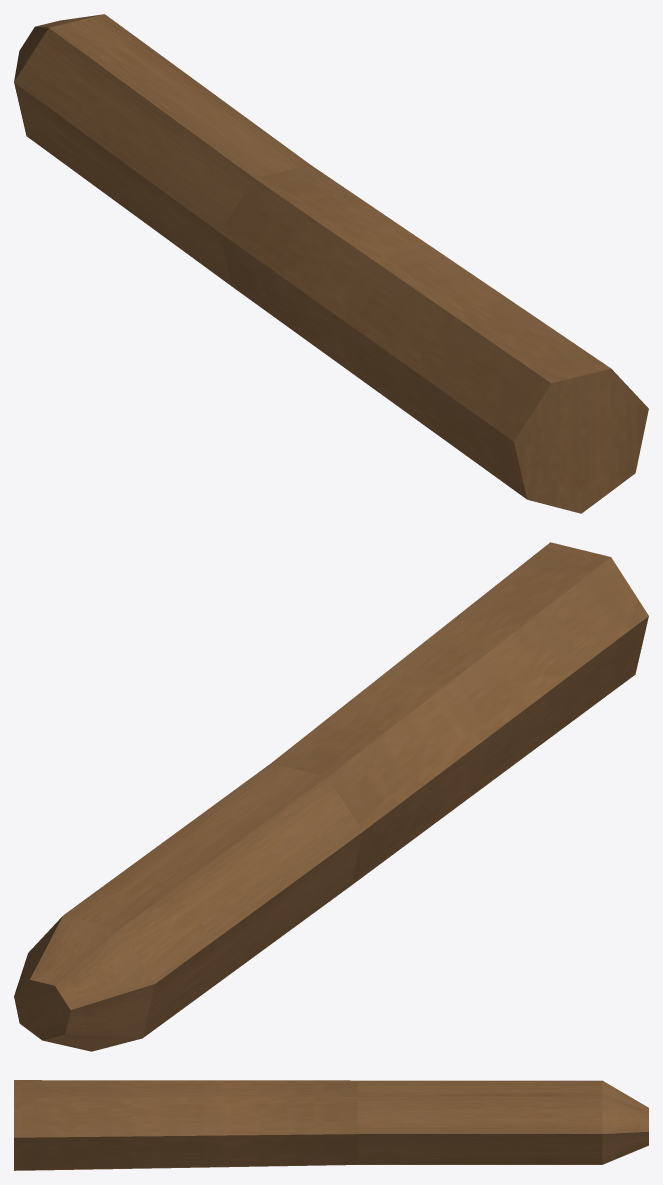
File: venice_tree_0.fbx
3 views of the same model, one above another, from view 1: azimuth 30°, elevation 25°; view 2: azimuth 150°, elevation 25°; view 3: azimuth 270°, elevation 25° (orthographic). The views are drawn at different scales.
Parts seen in each view (by area): view 1: Cylinder.039; view 2: Cylinder.039; view 3: Cylinder.039.
Boxes of the visible parts, x1,y1,x2,y2 form: Cylinder.039: (14, 14, 648, 513); Cylinder.039: (14, 542, 648, 1051); Cylinder.039: (14, 1080, 648, 1170).
Size of the model in its own units: 104 by 97.95 by 687.
